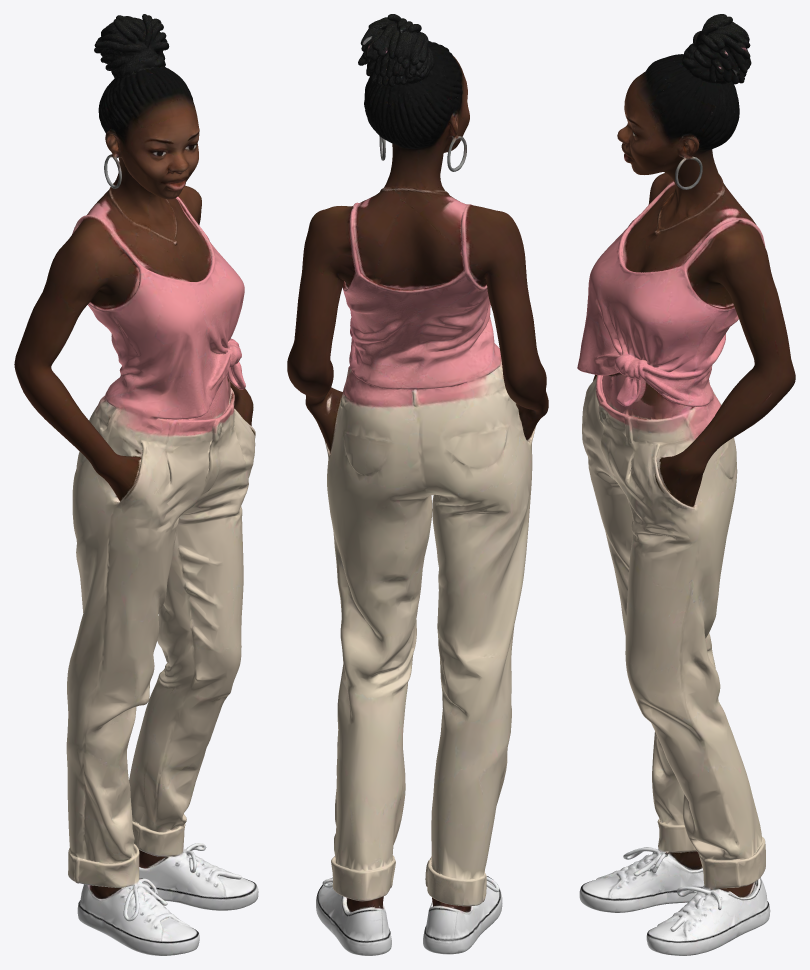
Rendered from bermuda-npc-female.glb.
The picture shows the model from 3 angles, left to right: view 1: azimuth 30°, elevation 25°; view 2: azimuth 150°, elevation 25°; view 3: azimuth 270°, elevation 25°; orthographic projection. The views are drawn at different scales.
Bounding box in the file's own units: 0.5072 × 1.9 × 0.4221.
Materials: 1 (1 with a texture image).
